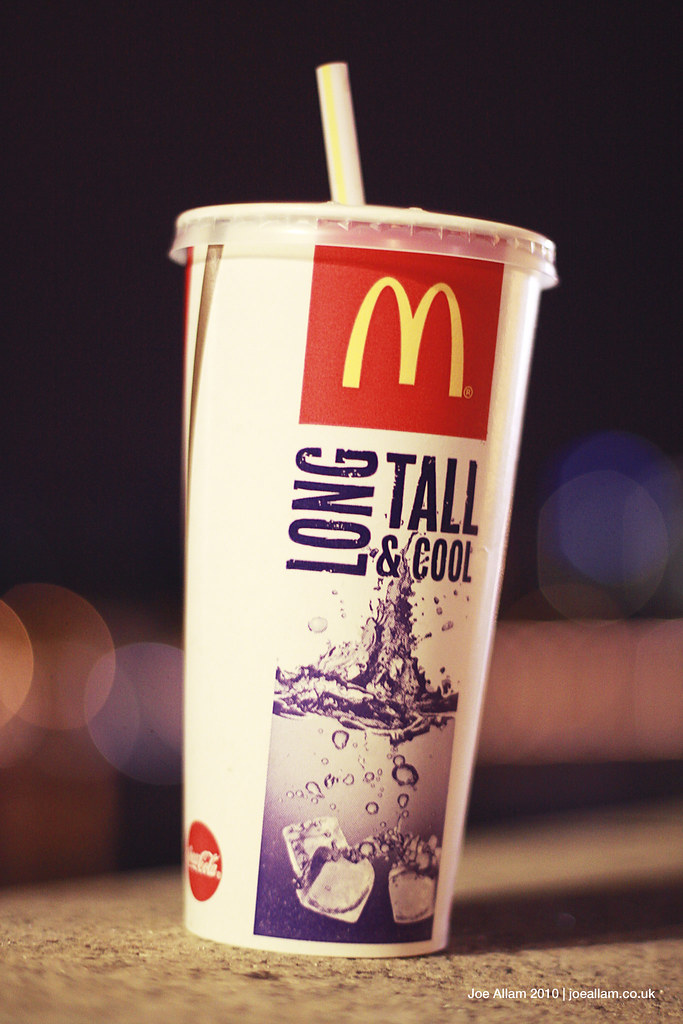mcdonalds: (331, 263, 472, 411)
